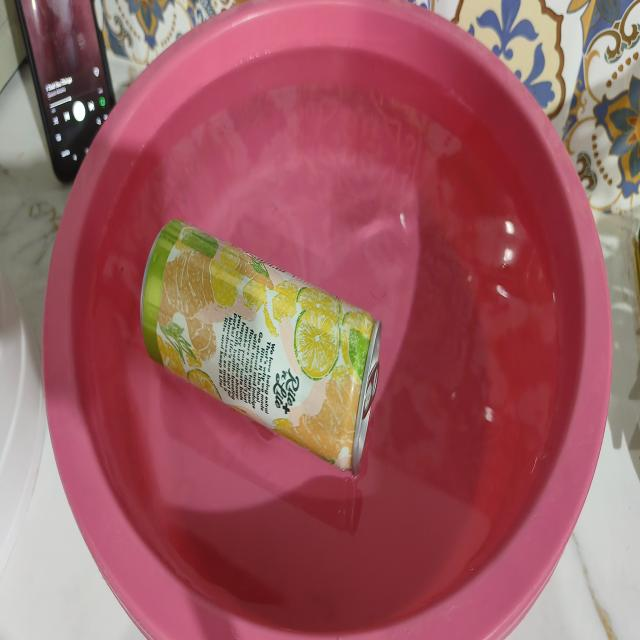Aluminum Can: (124, 186, 396, 503)
